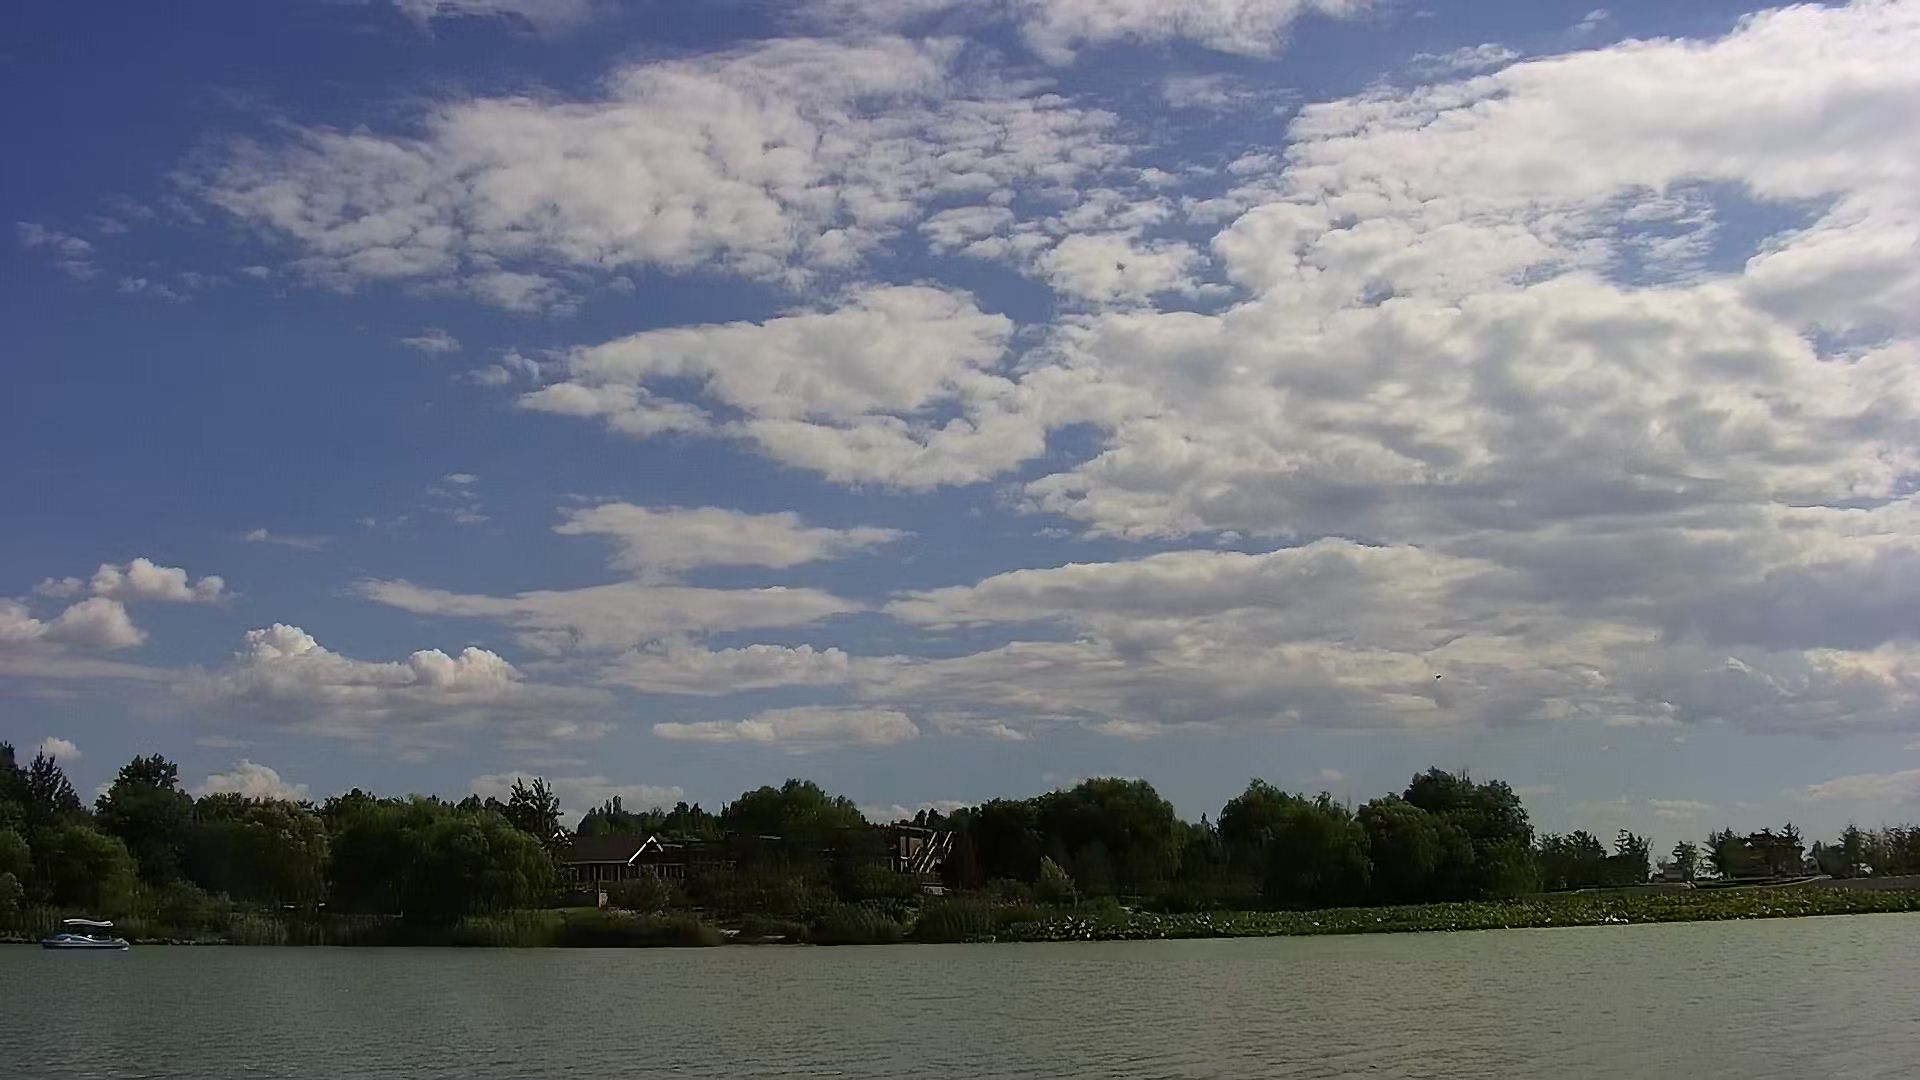boat: (36, 913, 133, 955)
